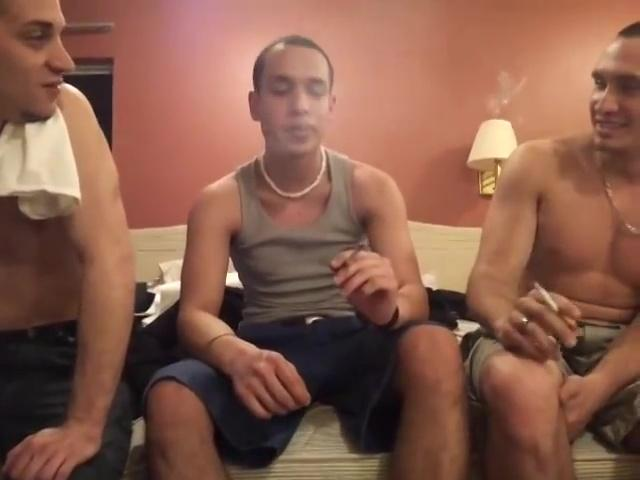cigarette: (532, 279, 562, 315), (342, 242, 367, 269)
